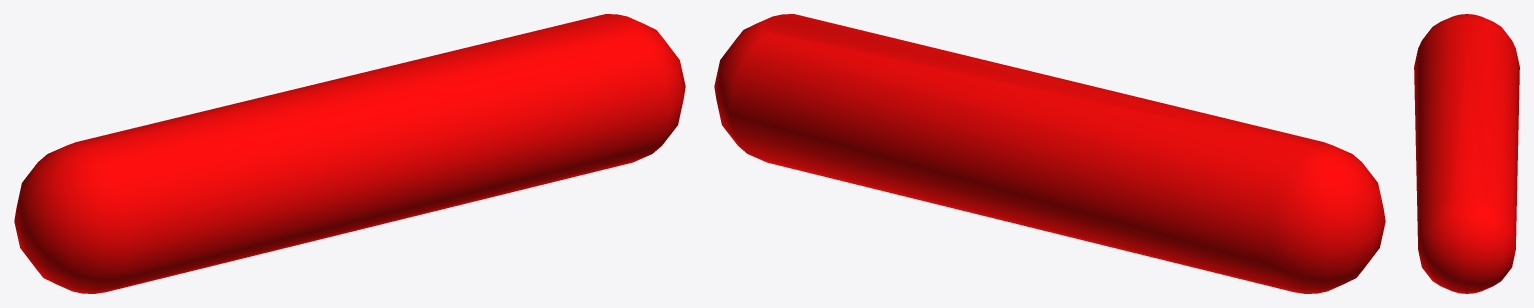
File: lazer.FBX
3 views of the same model, side by side, from view 1: azimuth 30°, elevation 25°; view 2: azimuth 150°, elevation 25°; view 3: azimuth 270°, elevation 25° (orthographic). The views are drawn at different scales.
Visible parts, largest first — view 1: Sphere001; view 2: Sphere001; view 3: Sphere001.
Boxes of the visible parts, x1,y1,x2,y2 form: Sphere001: (14, 14, 685, 293); Sphere001: (714, 14, 1385, 293); Sphere001: (1414, 14, 1519, 293).
Bounding box in the file's own units: 108 × 21.97 × 21.97.
